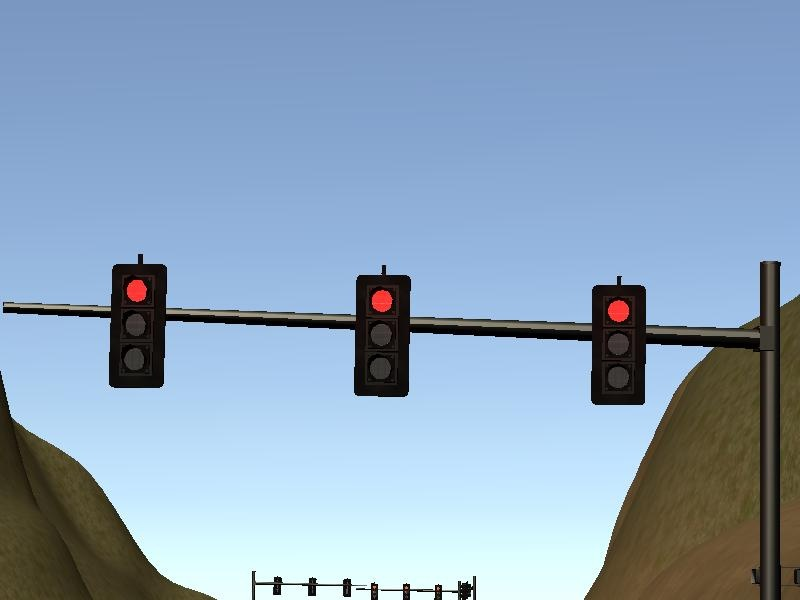RED: (109, 262, 167, 387), (353, 274, 411, 399), (588, 282, 646, 407)
